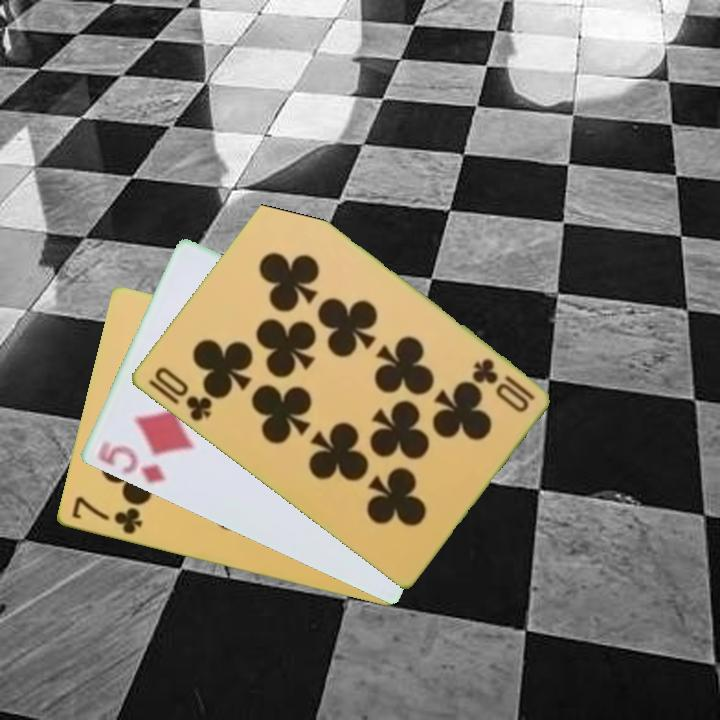10c: (468, 354, 538, 416), (150, 363, 215, 425)
5d: (93, 438, 169, 486)
7c: (68, 493, 145, 538)
